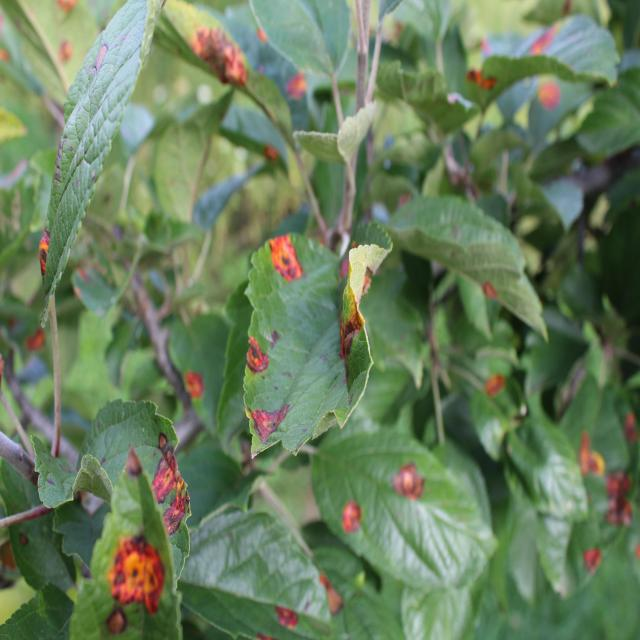rust: (39, 0, 164, 327), (243, 231, 390, 456), (81, 396, 191, 600), (178, 504, 332, 640), (69, 467, 182, 640)
